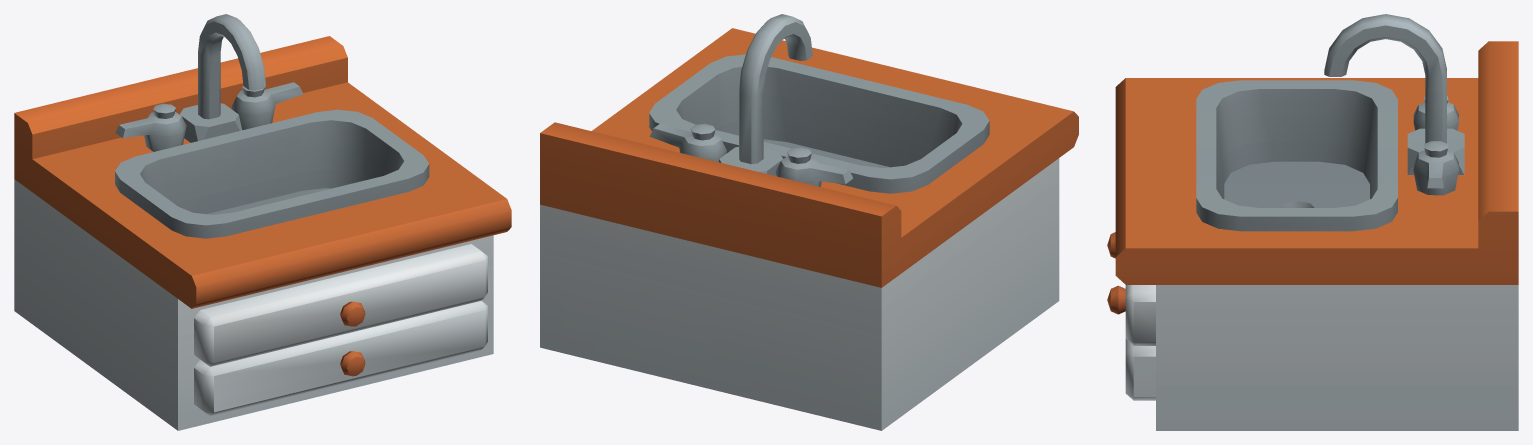
The model's file is kaykit-restaurant-bits-kitchencounter-sink-backsplash.glb.
3 renders of one model, left to right at view 1: azimuth 30°, elevation 25°; view 2: azimuth 150°, elevation 25°; view 3: azimuth 270°, elevation 25°, orthographic. The views are drawn at different scales.
Parts seen in each view (by area): view 1: kitchencounter_sink_backsplash; view 2: kitchencounter_sink_backsplash; view 3: kitchencounter_sink_backsplash.
Part boxes in pixels (x1=…): kitchencounter_sink_backsplash: x1=14, y1=14, x2=511, y2=430; kitchencounter_sink_backsplash: x1=540, y1=14, x2=1078, y2=430; kitchencounter_sink_backsplash: x1=1107, y1=14, x2=1518, y2=430.
Size of the model in its own units: 2 by 1.8 by 2.04.
Materials: 1 (1 with a texture image).
